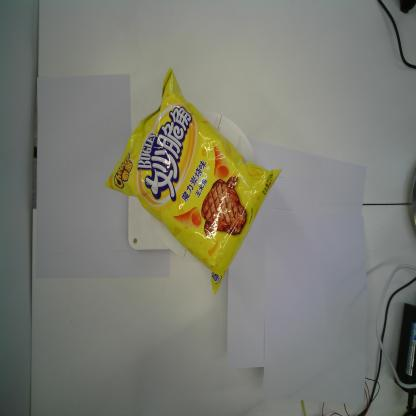Puffed Food: (103, 66, 283, 294)
